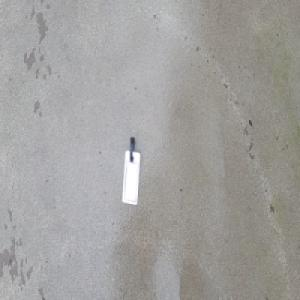LuggageTag: (120, 137, 141, 207)
